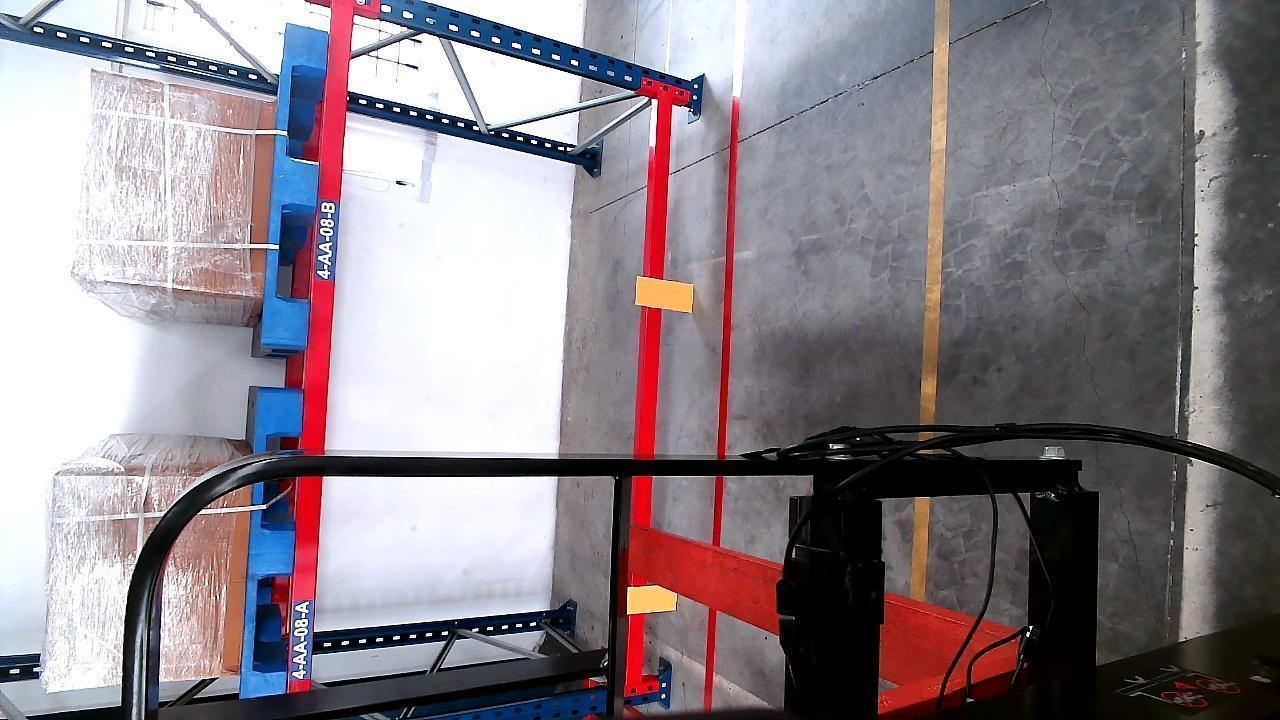red_line: (704, 92, 744, 717)
yellow_line: (910, 1, 951, 602)
